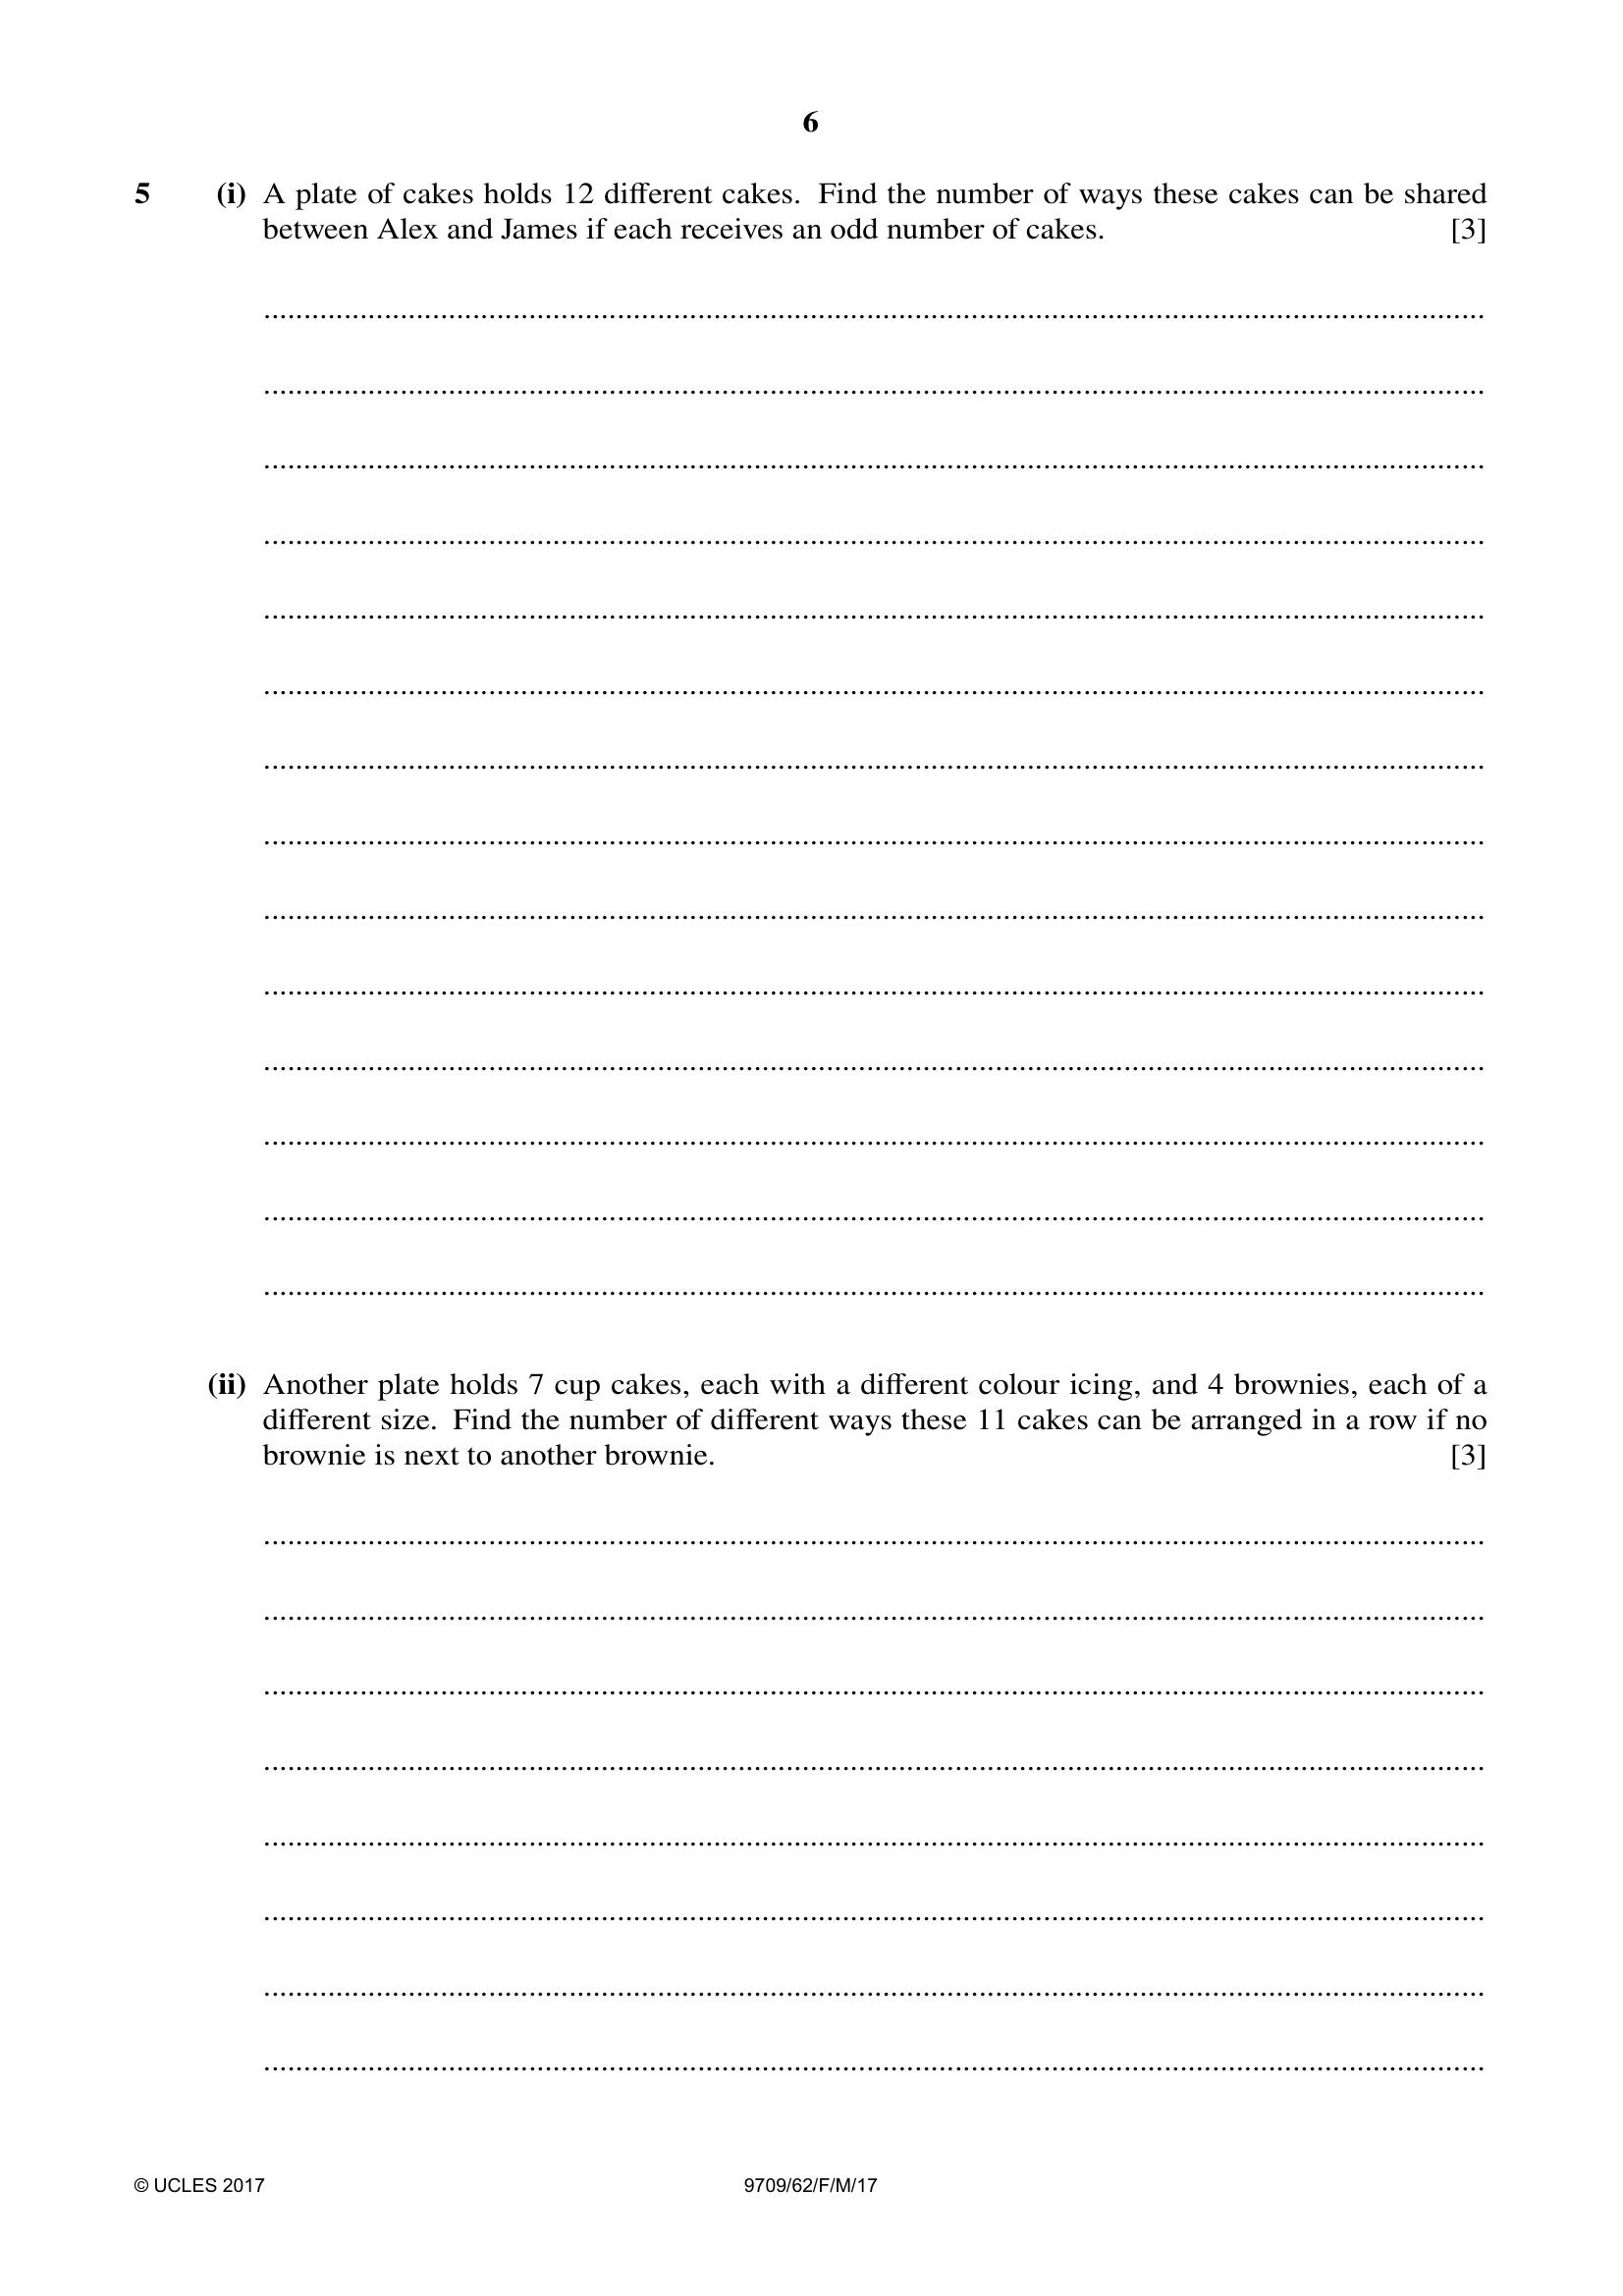question: (2, 135, 1619, 2106)
